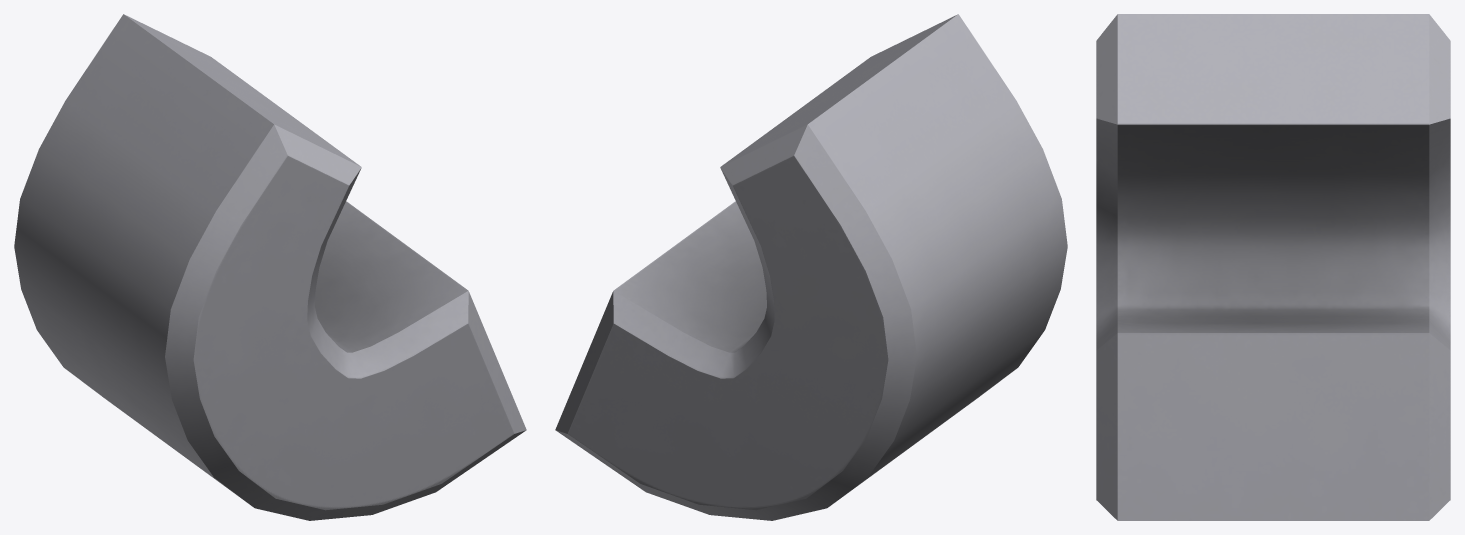
File: Ogonek.FBX
The picture shows the model from 3 angles, left to right: view 1: azimuth 30°, elevation 25°; view 2: azimuth 150°, elevation 25°; view 3: azimuth 270°, elevation 25°; orthographic projection. The views are drawn at different scales.
Visible parts, largest first — view 1: Ogonek; view 2: Ogonek; view 3: Ogonek.
Boxes of the visible parts, <box> form: Ogonek: <box>14,14,526,520</box>; Ogonek: <box>555,14,1067,520</box>; Ogonek: <box>1096,14,1450,520</box>.
Bounding box in the file's own units: 40.18 × 44 × 33.
